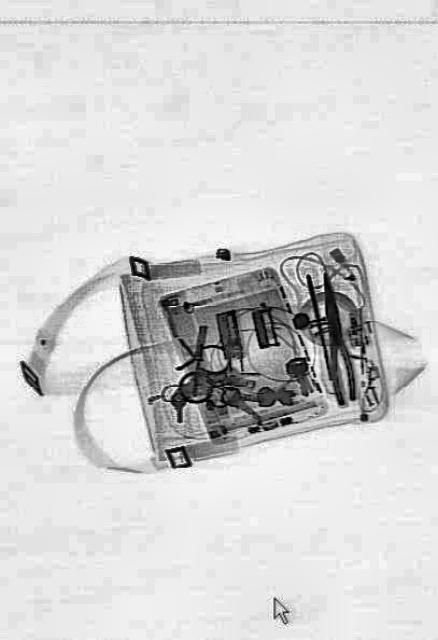Pliers: (314, 267, 360, 407)
